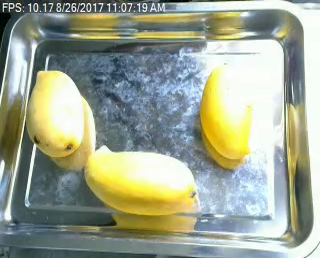Mango: (85, 144, 203, 219), (193, 56, 256, 159), (26, 66, 87, 158)
